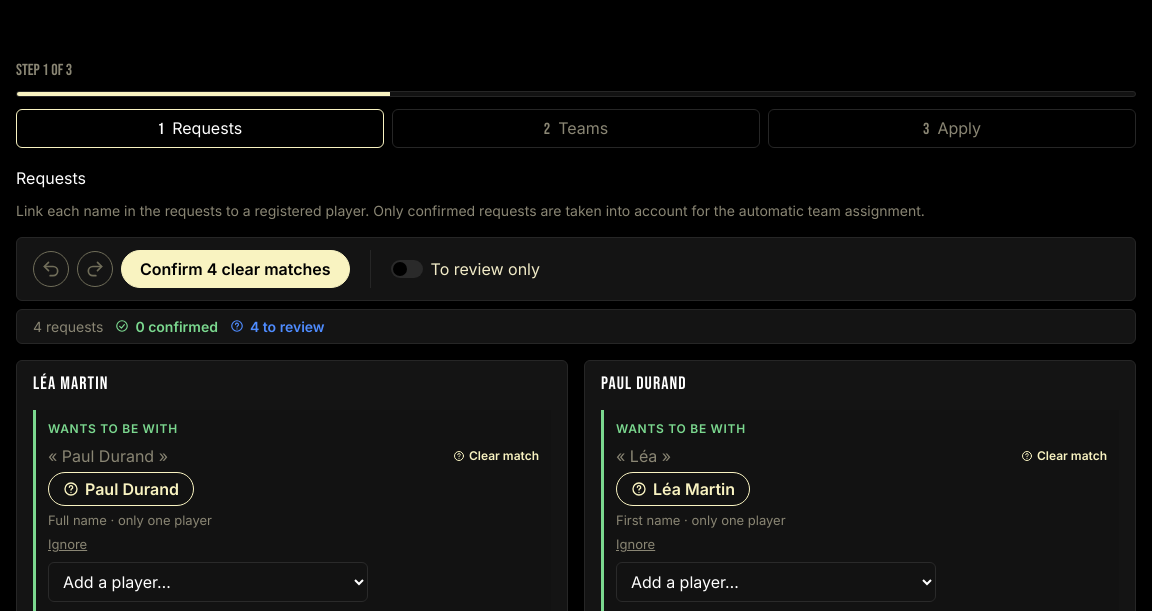
it: team builder page › proposes teams, placing every player and flagging an incomplete profile
Click the button "2 Teams" at [576, 128], box [392, 109, 760, 148]
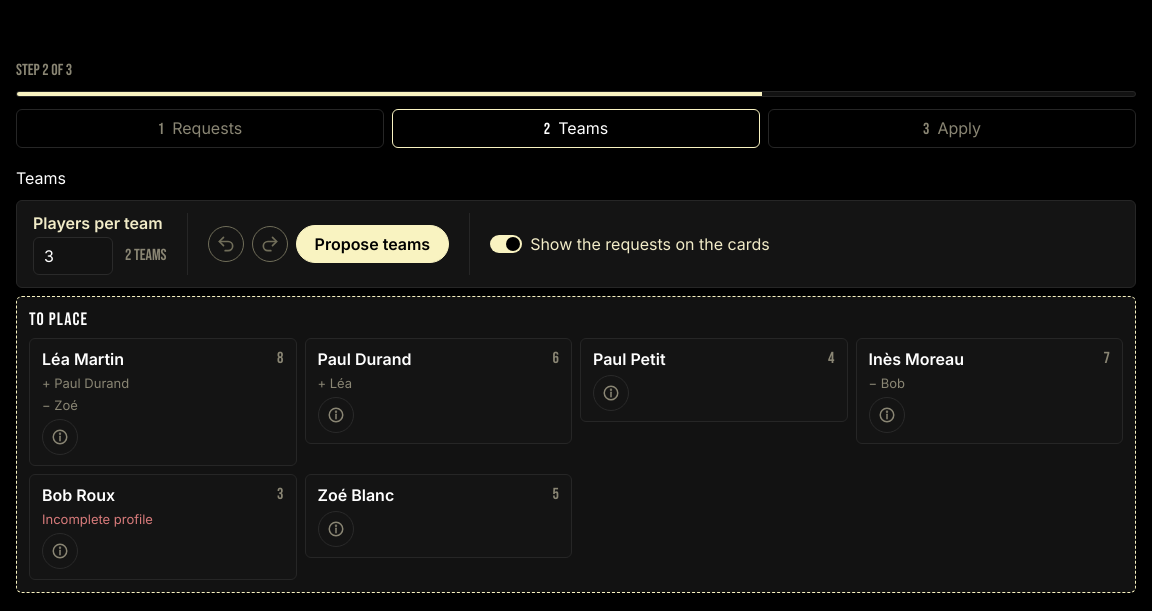
Click the button "Propose teams" at [372, 244], box [296, 225, 449, 263]
(page scrolled)
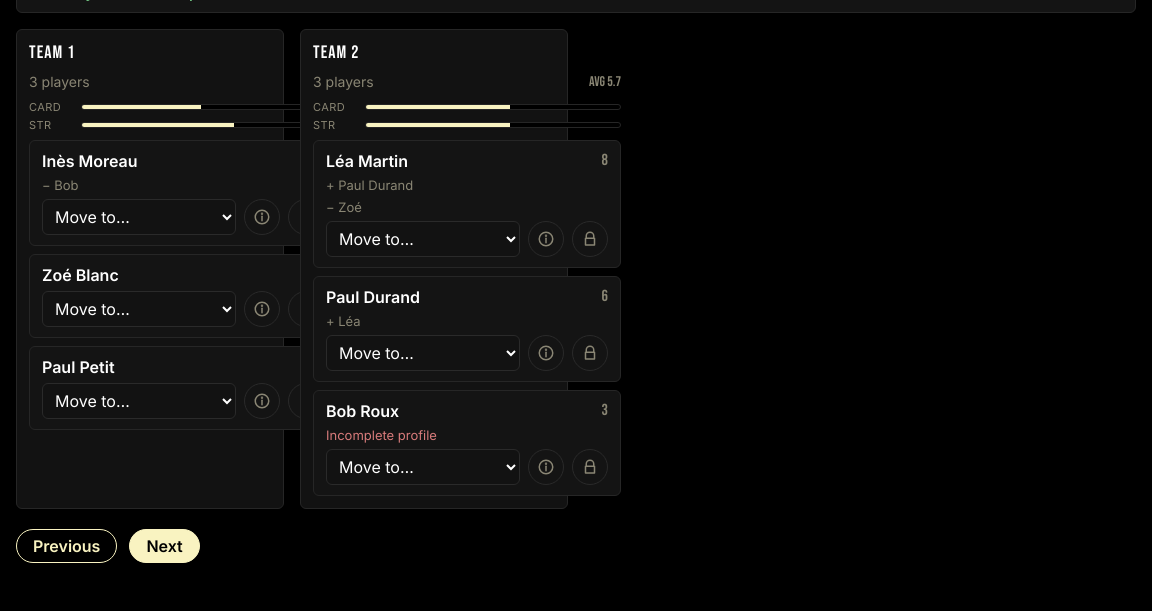
Expected: the text "Incomplete profile" is shown, [326, 428, 437, 444]
Expected: the number of elements "Team 1" is 2, [16, 30, 284, 510]; [300, 30, 568, 510]
Expected: the heading "To place" is gone
